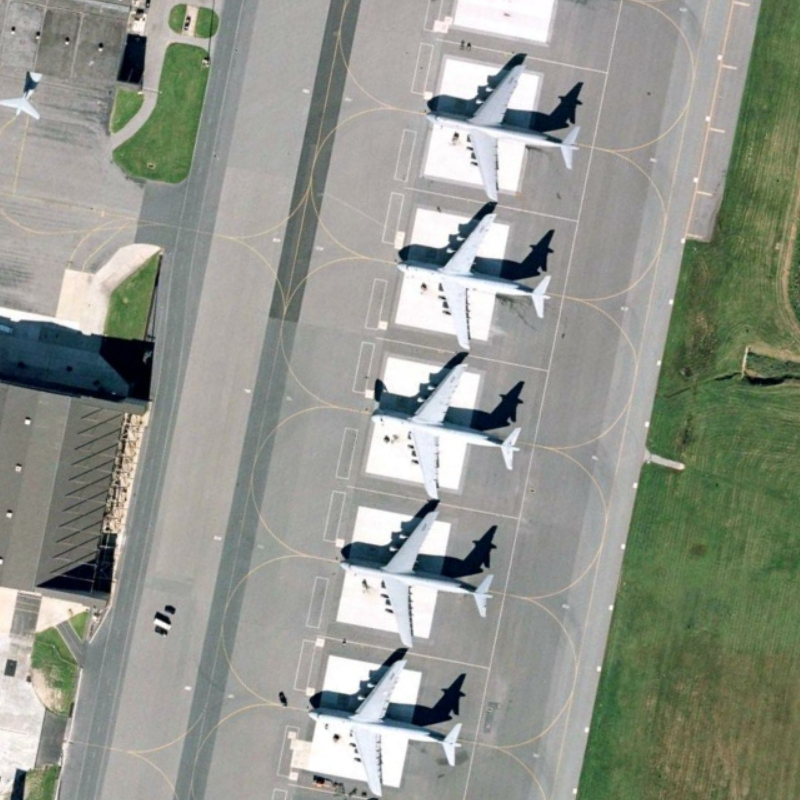A4: (388, 205, 564, 357), (413, 56, 587, 205), (365, 350, 530, 505), (332, 505, 496, 654), (300, 652, 471, 793)
